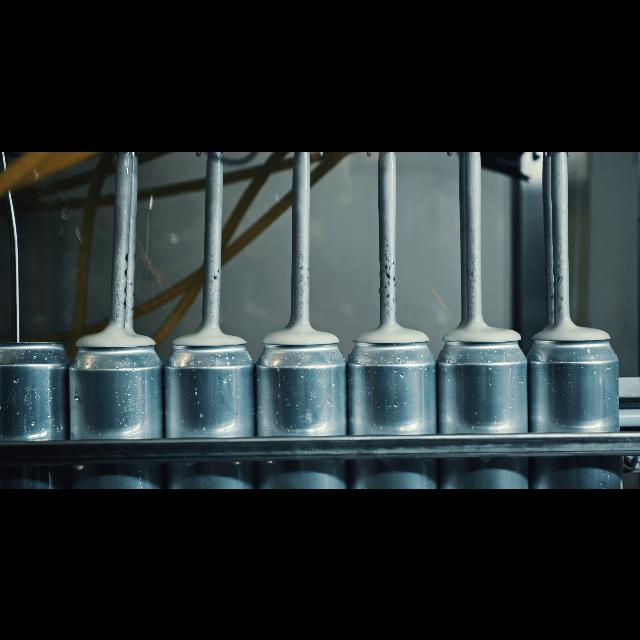empty: (2, 332, 68, 488)
full: (74, 324, 162, 488), (535, 317, 619, 488), (261, 322, 347, 488), (442, 322, 528, 488), (168, 324, 255, 488), (352, 322, 436, 488)
